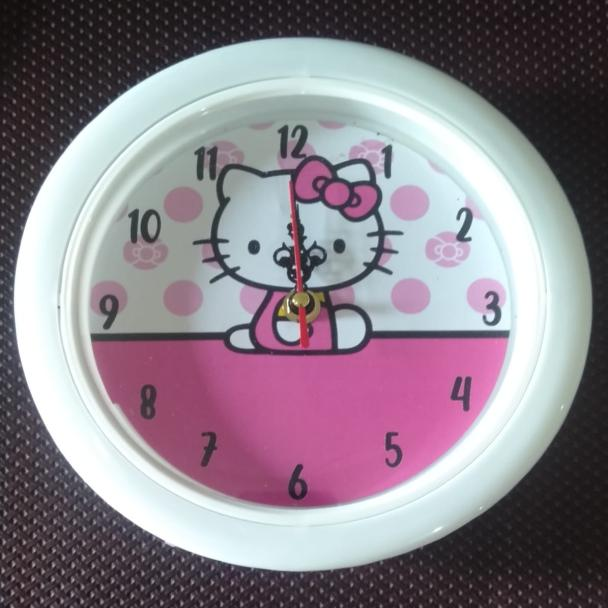Jam: (19, 38, 592, 572)
